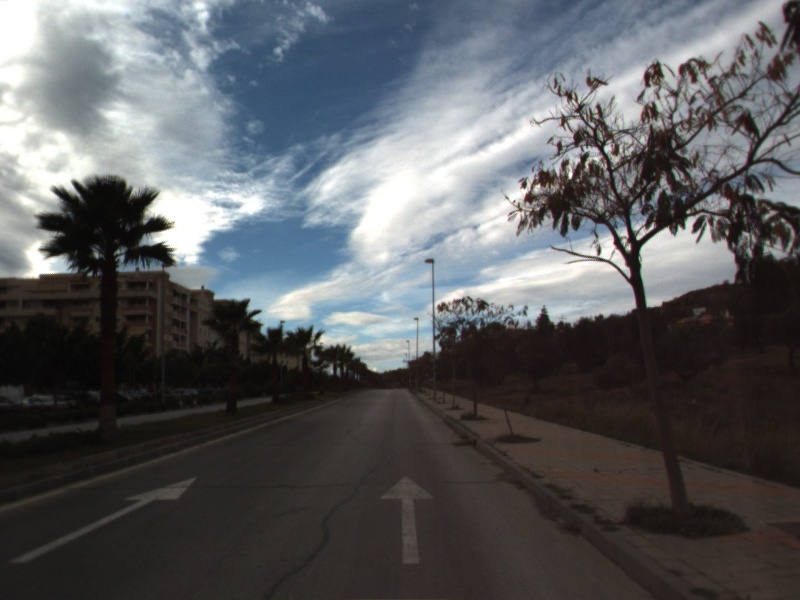STRAIGHT: (7, 474, 199, 565), (378, 473, 437, 565)
